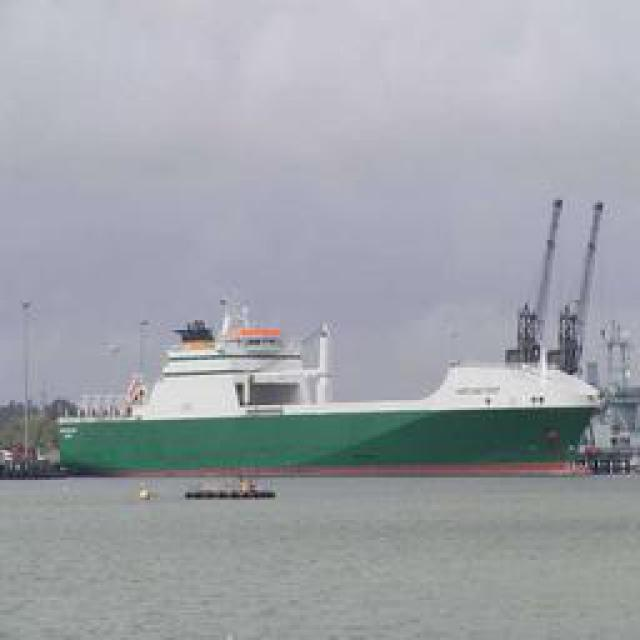Ship: (56, 310, 609, 473)
